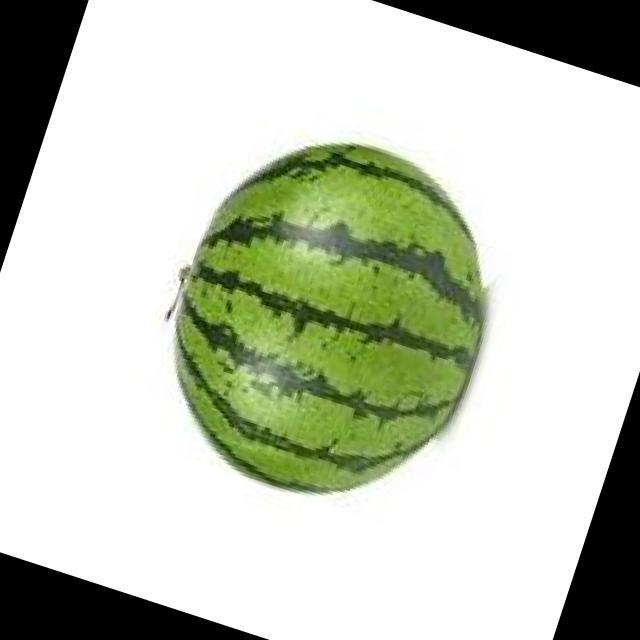watermelon: (169, 136, 490, 502)
